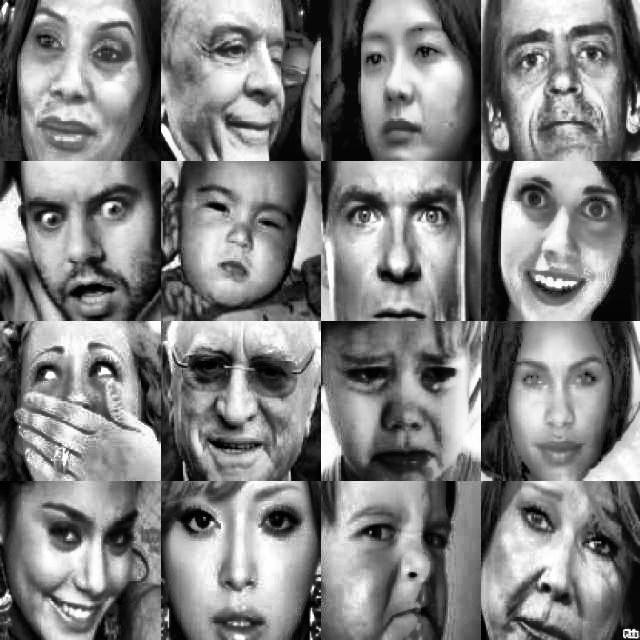angry: (342, 492, 460, 640)
fear: (11, 166, 153, 318), (329, 170, 469, 319), (14, 327, 143, 475), (499, 162, 623, 313)
happy: (502, 9, 626, 153), (28, 492, 144, 640), (509, 341, 615, 473), (198, 10, 294, 153)
neutral: (168, 481, 306, 640), (19, 1, 143, 159), (184, 169, 300, 309), (348, 9, 457, 157)
sad: (490, 478, 630, 640), (329, 336, 471, 479), (170, 332, 306, 476)
